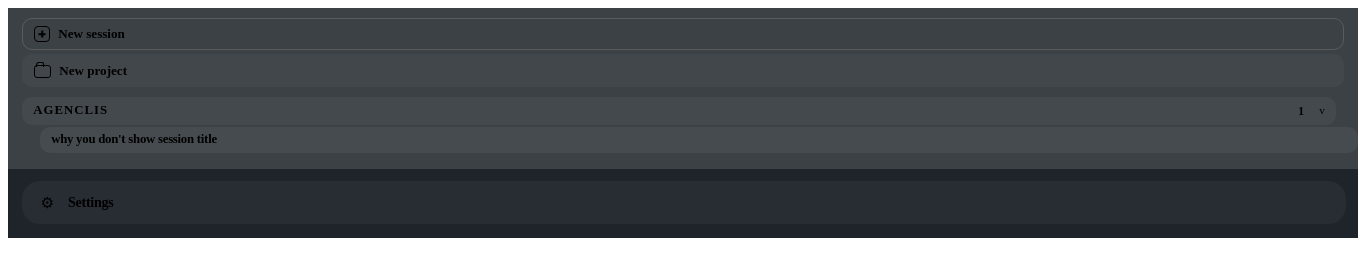
Test: SessionSidebar › collapses the active project when its header is clicked
Expected: the text "why you don't show session title" is shown, [51, 132, 217, 147]
Click the button "AGENCLIS 1 v" at point(71, 110), box [22, 97, 1336, 125]
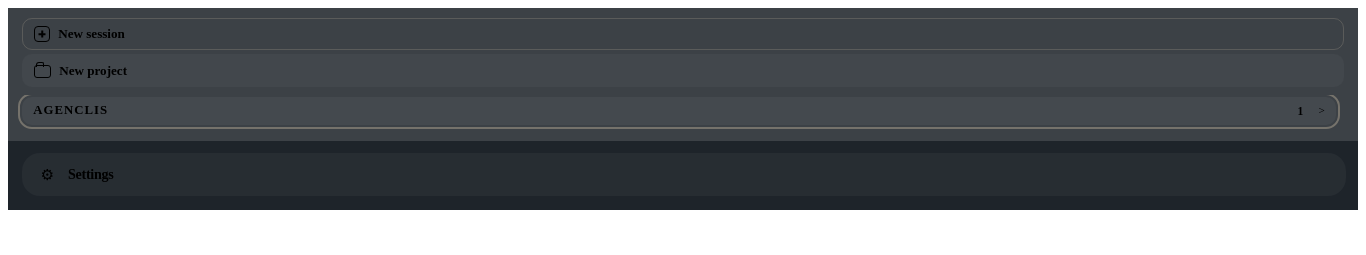
Expected: the button "AGENCLIS 1 >" is collapsed, [22, 97, 1336, 125]
Expected: the button "why you don't show session title" is gone
